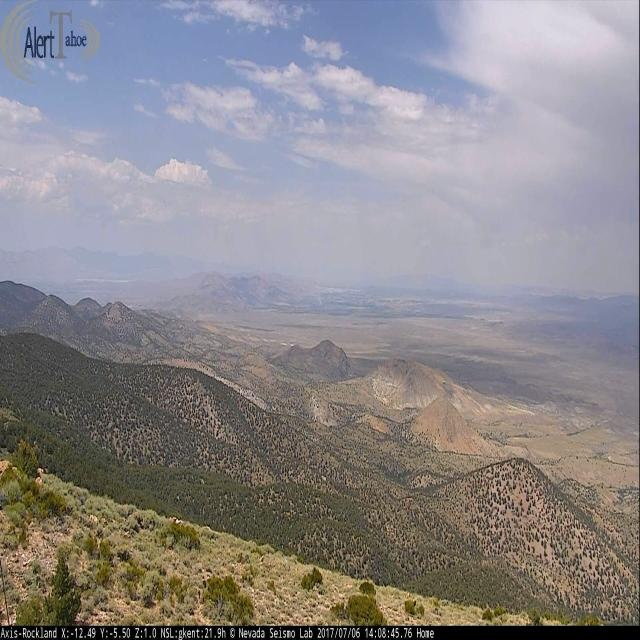smoke: (317, 297, 322, 304)
